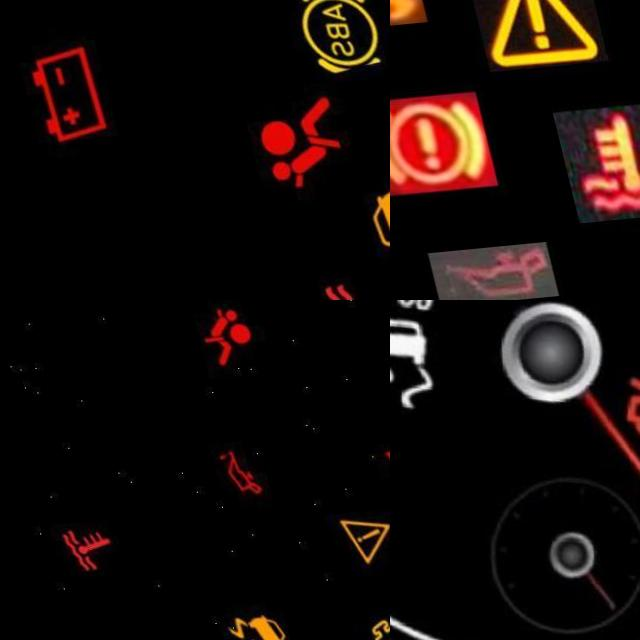Central Warning lamp: (461, 0, 599, 81)
Engine cooling system: (541, 113, 640, 233)
